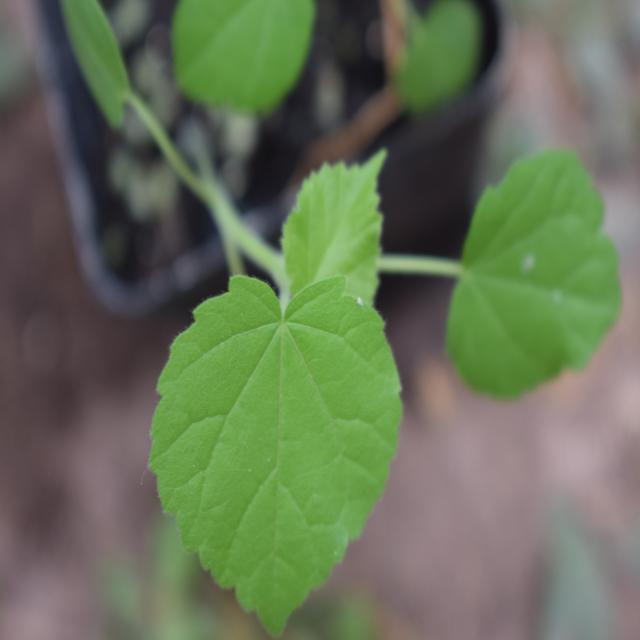abutilon theophrasti: (146, 130, 602, 618)
